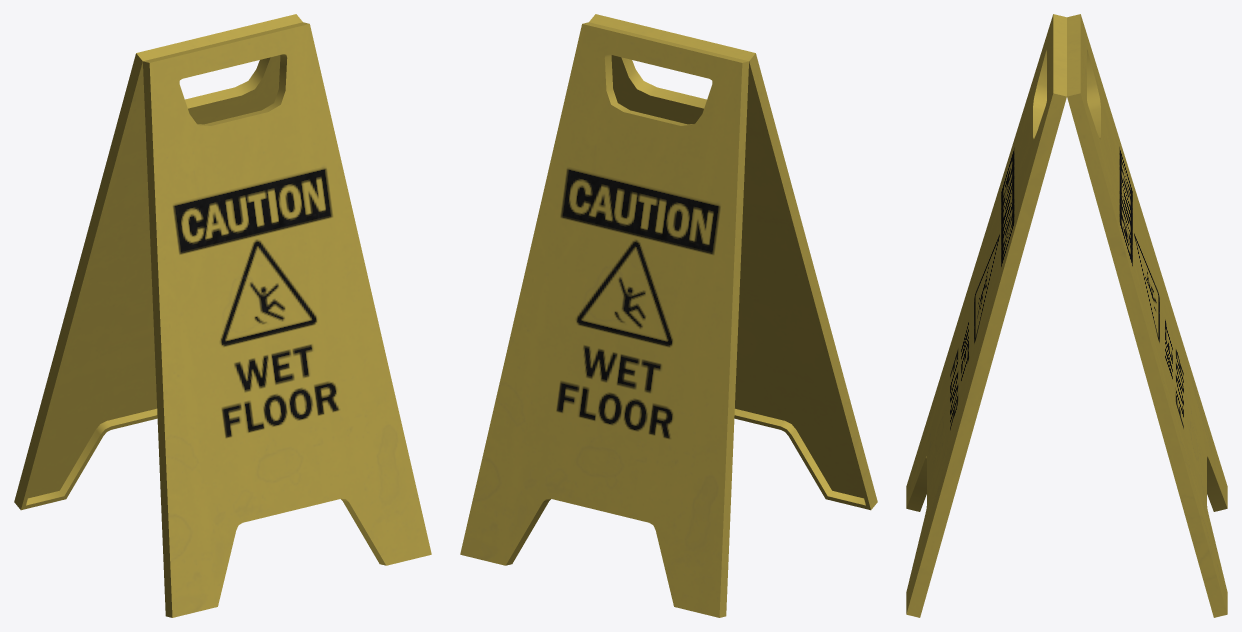
The model's file is WetFloor.fbx.
The picture shows the model from 3 angles, left to right: view 1: azimuth 30°, elevation 25°; view 2: azimuth 150°, elevation 25°; view 3: azimuth 270°, elevation 25°; orthographic projection.
Visible parts, largest first — view 1: WetFloor; view 2: WetFloor; view 3: WetFloor.
Part boxes in pixels (<box>): WetFloor: <box>14,14,431,617</box>; WetFloor: <box>460,14,877,617</box>; WetFloor: <box>906,14,1227,617</box>.
Size of the model in its own units: 32.11 by 58.34 by 33.96.
